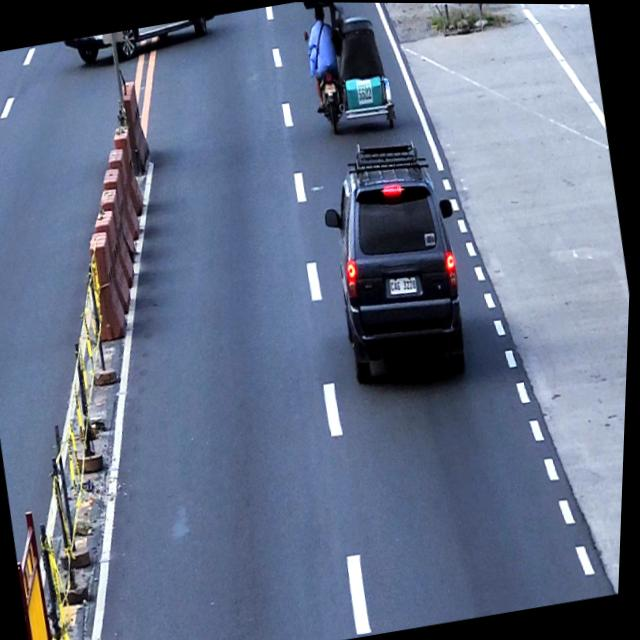Car: (309, 129, 484, 389), (61, 14, 219, 70)
License-Plate: (391, 274, 421, 297), (323, 82, 337, 95)
Tricycle: (295, 2, 403, 142)
